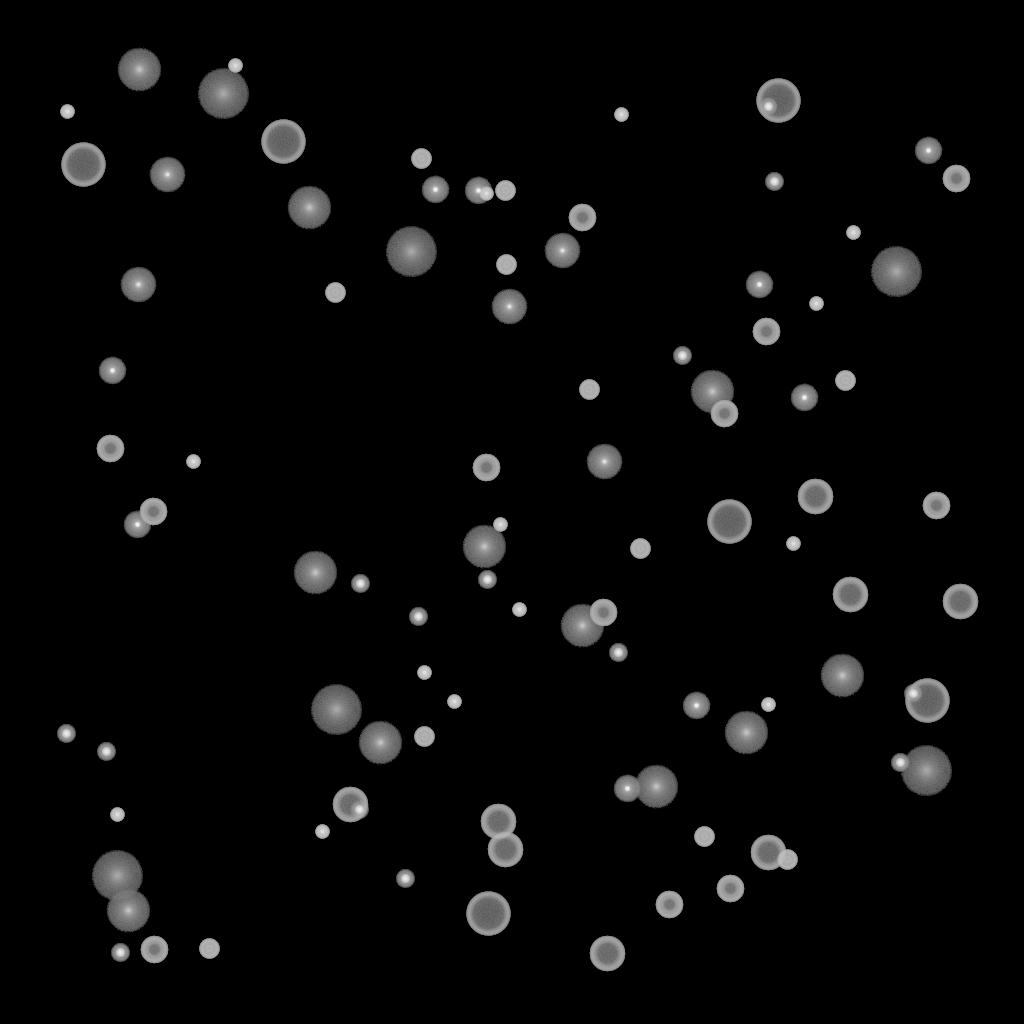depth:-10: (421, 176, 449, 204), (123, 511, 151, 539), (682, 692, 710, 720), (745, 271, 773, 299), (613, 775, 641, 803), (464, 177, 492, 205), (790, 384, 818, 412), (98, 357, 126, 385), (914, 137, 942, 165)
depth:-20: (350, 801, 368, 819), (97, 743, 115, 761), (478, 571, 496, 589), (396, 870, 414, 888), (111, 944, 129, 962), (351, 575, 369, 593), (904, 685, 922, 703), (409, 608, 427, 626), (57, 725, 75, 743), (765, 173, 783, 191), (891, 754, 909, 772), (609, 644, 627, 662), (673, 347, 691, 365), (759, 98, 777, 116)
depth:-30: (493, 518, 507, 532), (786, 537, 800, 551), (479, 187, 493, 201), (846, 226, 860, 240), (809, 297, 823, 311), (228, 59, 242, 73), (447, 695, 461, 709), (761, 698, 775, 712), (110, 808, 124, 822), (186, 455, 200, 469), (614, 108, 628, 122), (512, 603, 526, 617), (60, 105, 74, 119), (315, 825, 329, 839), (417, 666, 431, 680)
depth:-40: (630, 539, 650, 559), (495, 181, 515, 201), (199, 939, 219, 959), (325, 283, 345, 303), (579, 380, 599, 400), (777, 850, 797, 870), (835, 371, 855, 391), (414, 727, 434, 747), (694, 827, 714, 847), (411, 149, 431, 169), (496, 255, 516, 275)
depth:-50: (589, 599, 617, 627), (472, 454, 500, 482), (710, 400, 738, 428), (139, 498, 167, 526), (140, 936, 168, 964), (568, 204, 596, 232), (942, 165, 970, 193), (922, 492, 950, 520), (96, 435, 124, 463), (752, 318, 780, 346), (716, 875, 744, 903), (655, 891, 683, 919)
depth:-60: (942, 584, 978, 620), (797, 479, 833, 515), (480, 804, 516, 840), (832, 577, 868, 613), (589, 936, 625, 972), (750, 835, 786, 871), (487, 832, 523, 868), (332, 787, 368, 823)
depth:-70: (756, 79, 800, 123), (905, 679, 949, 723), (707, 500, 751, 544), (466, 892, 510, 936), (61, 143, 105, 187), (261, 120, 305, 164)
depth:0: (149, 157, 185, 193), (586, 444, 622, 480), (120, 267, 156, 303), (544, 233, 580, 269), (491, 289, 527, 325)
depth:10: (287, 186, 331, 230), (724, 711, 768, 755), (358, 721, 402, 765), (106, 889, 150, 933), (560, 604, 604, 648), (293, 551, 337, 595), (820, 654, 864, 698), (462, 525, 506, 569), (690, 370, 734, 414), (634, 765, 678, 809), (117, 48, 161, 92)
depth:20: (870, 247, 922, 297), (310, 685, 362, 735), (197, 69, 249, 119), (91, 851, 143, 901), (900, 746, 952, 796), (385, 227, 437, 277)
